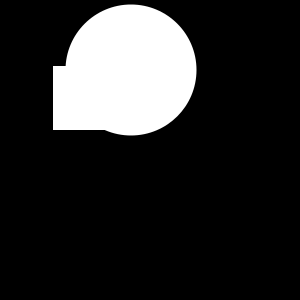circle: (53, 66, 117, 130)
rectangle: (66, 5, 196, 136)
